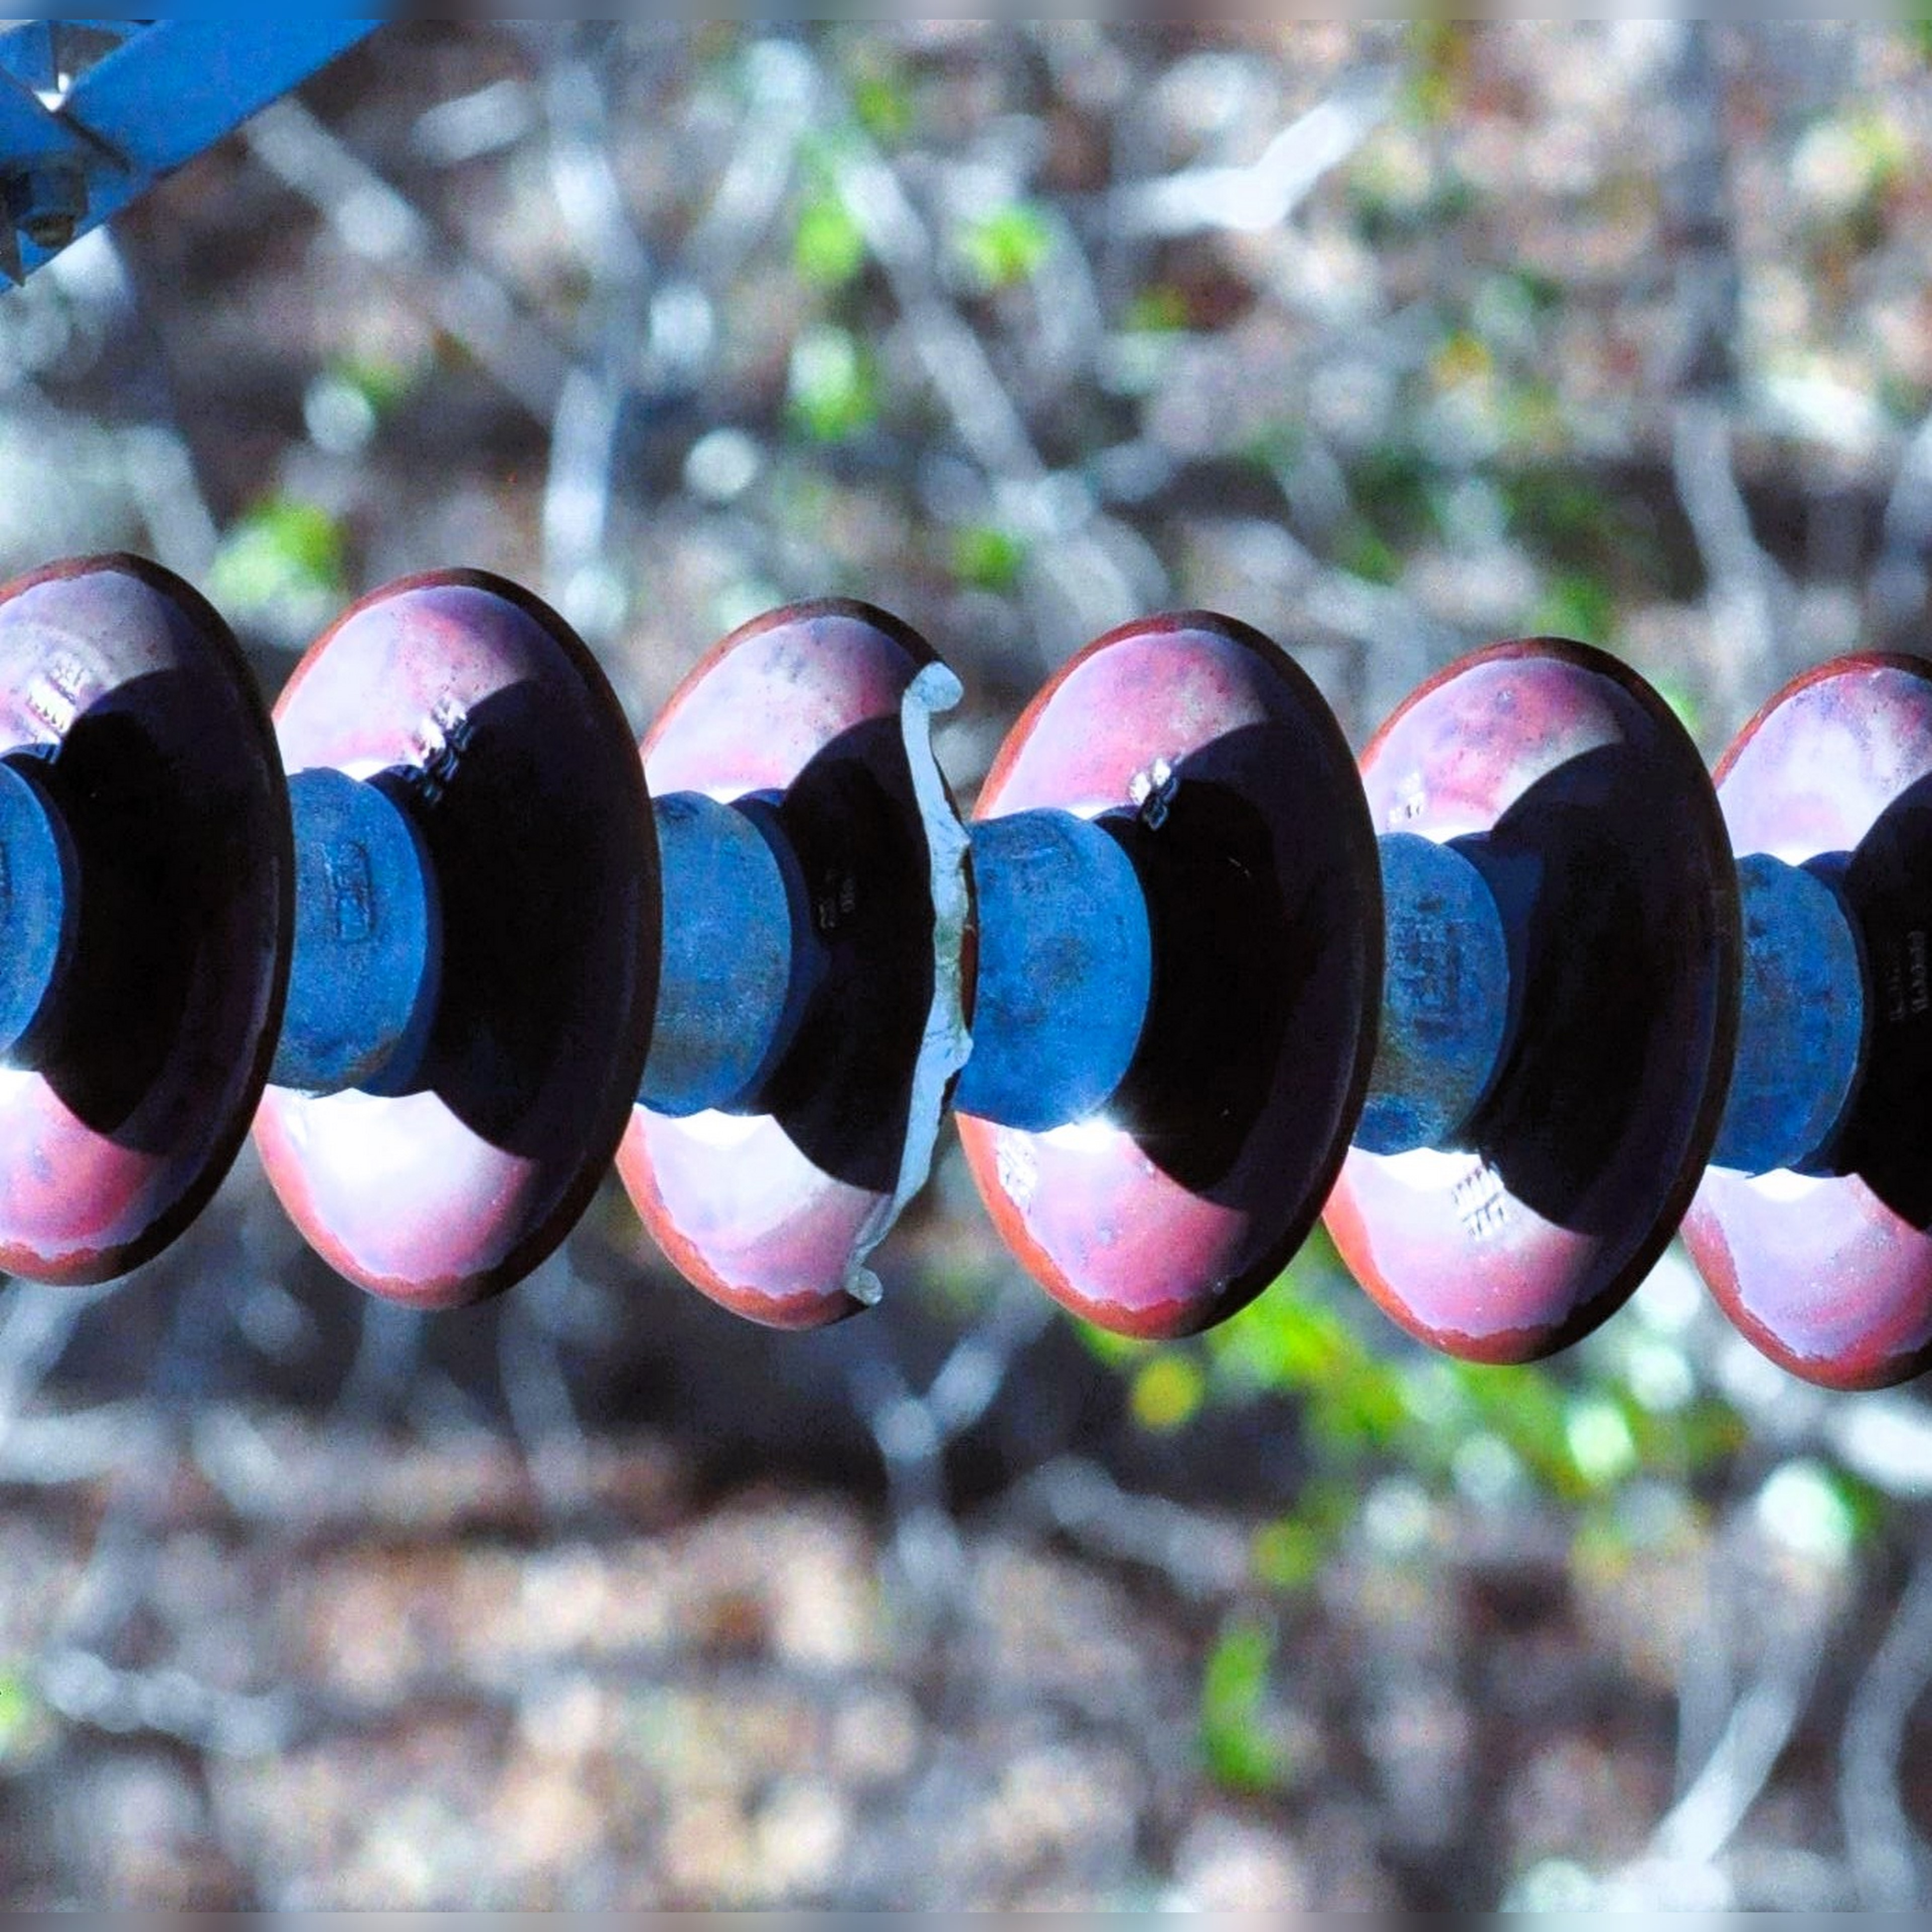insulator breakage: (610, 594, 985, 1346)
